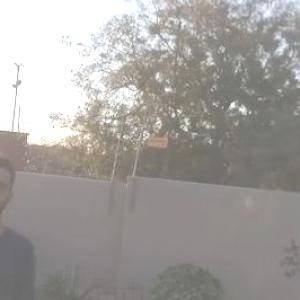follow: (0, 143, 42, 299)
